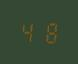eight: (38, 19, 56, 44)
four: (19, 19, 37, 43)
